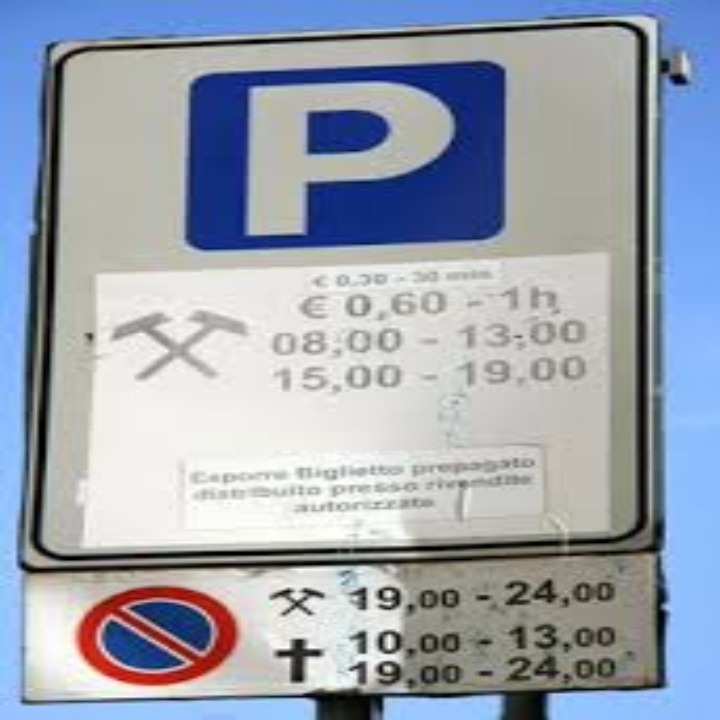parking: (236, 77, 462, 239)
